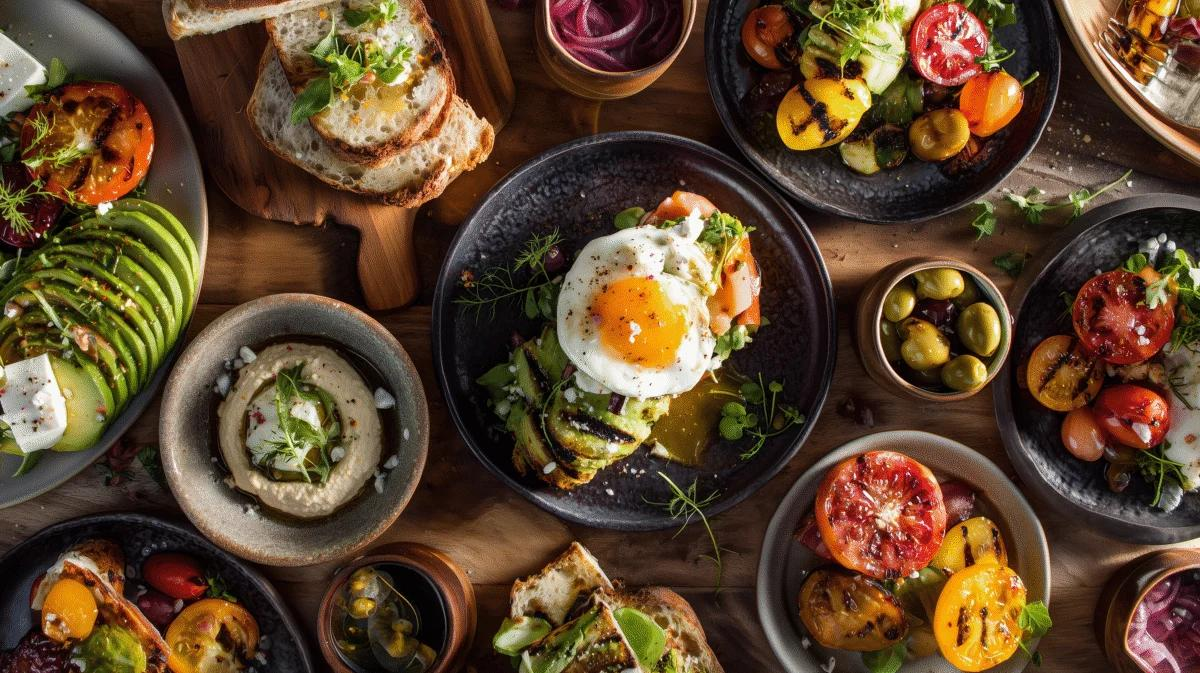Braised Crucian Carp: (446, 131, 830, 529), (2, 1, 210, 507), (159, 3, 492, 237), (159, 288, 430, 563), (997, 200, 1200, 534), (777, 0, 1056, 228), (769, 424, 1030, 665)
